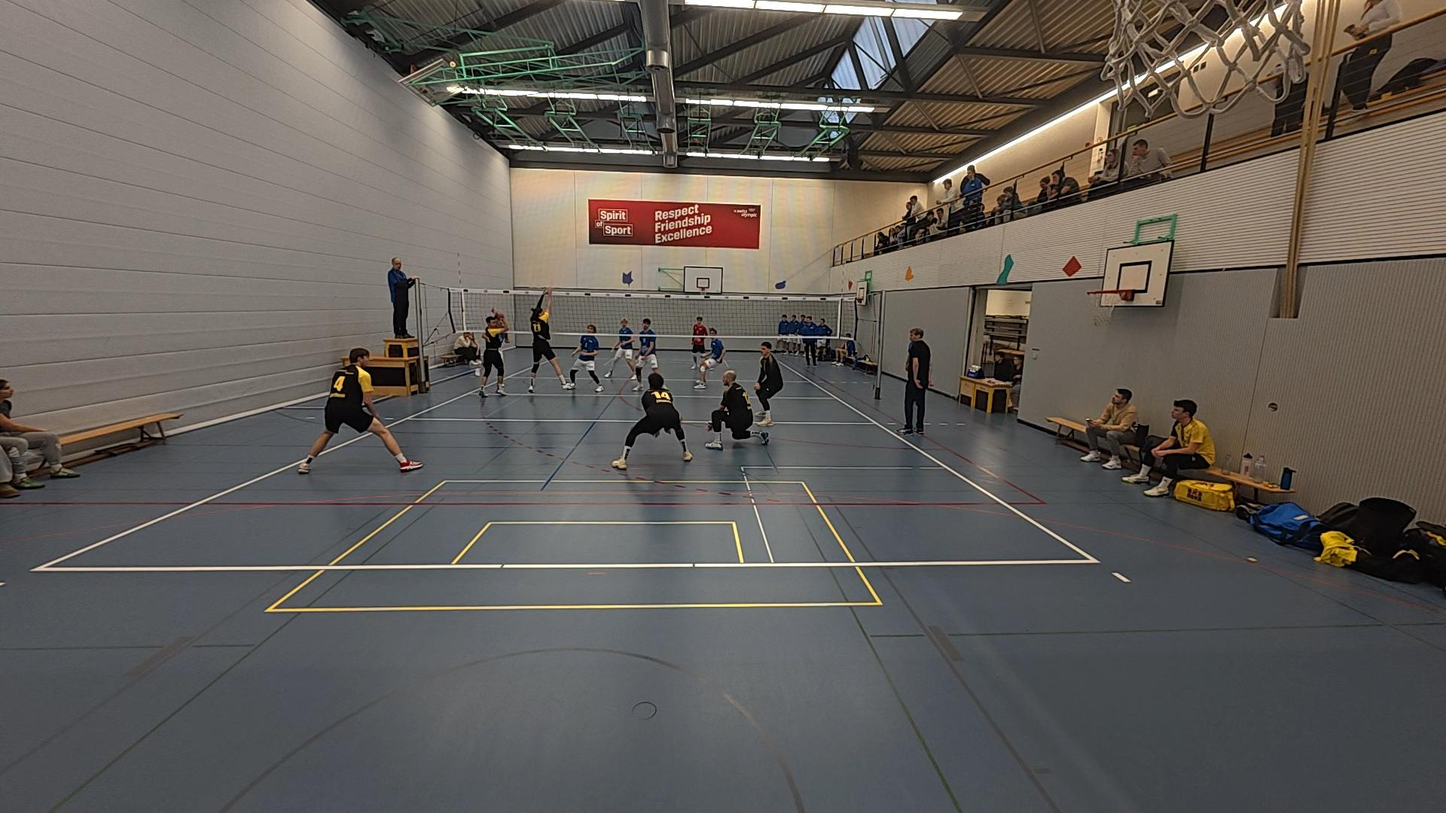difesa: (704, 370, 769, 451)
